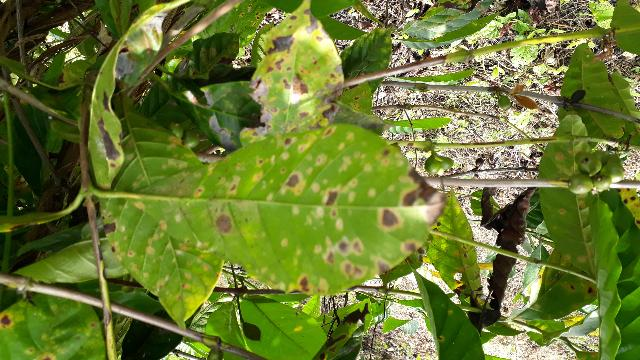rust_level_4: (132, 125, 446, 297)
